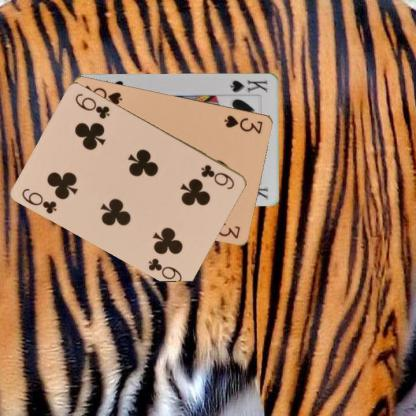3s: (221, 112, 264, 135)
6c: (20, 185, 59, 215), (198, 162, 236, 190)
Ks: (228, 76, 268, 94)
